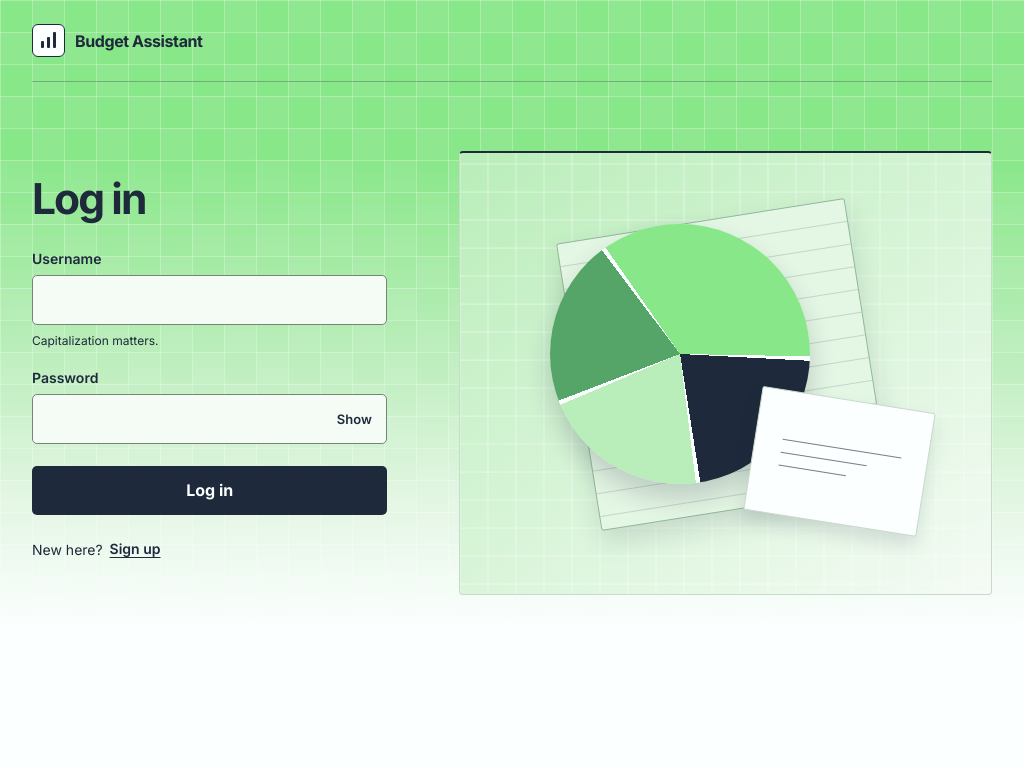
Test case: shows and hides the password before signing in
Expected: the heading "Log in" is shown, [32,173,146,224]
Type "BudgetUser8" into the field labelled "Username". click: (210, 300)
box: [32,275,387,325]
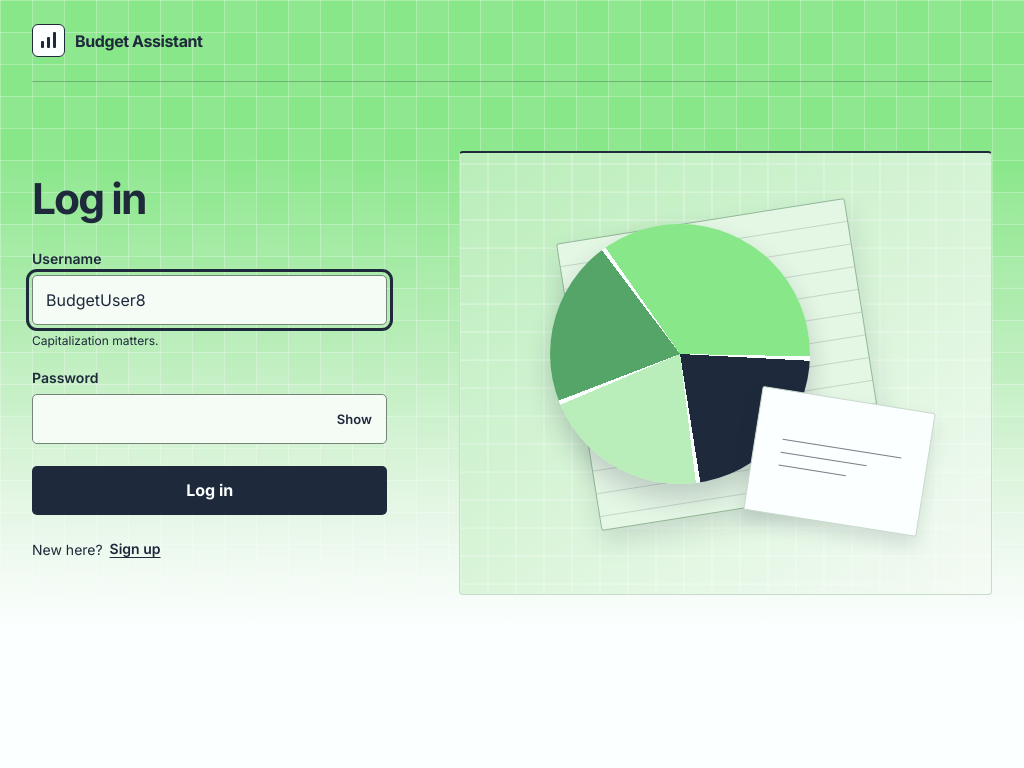
Type "Demo8abc" into the password field labelled "Password". click: (210, 419)
box: [32,394,387,444]
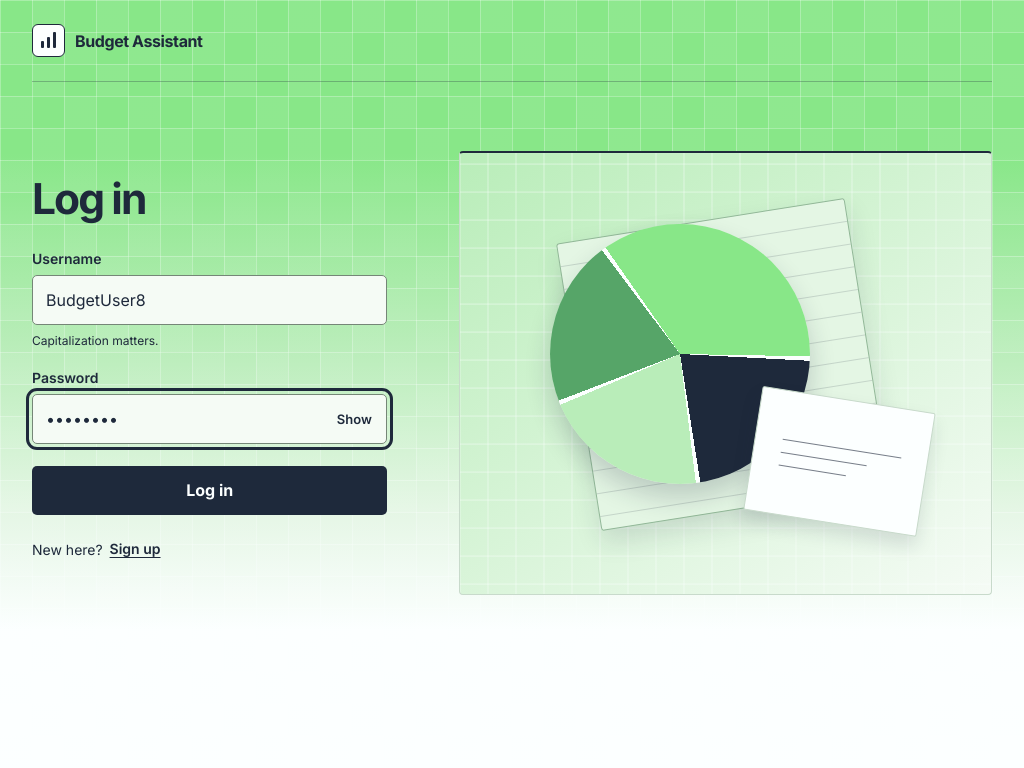
Click the button with aria-label "Show password". click: (354, 419)
box: [325,398,383,440]
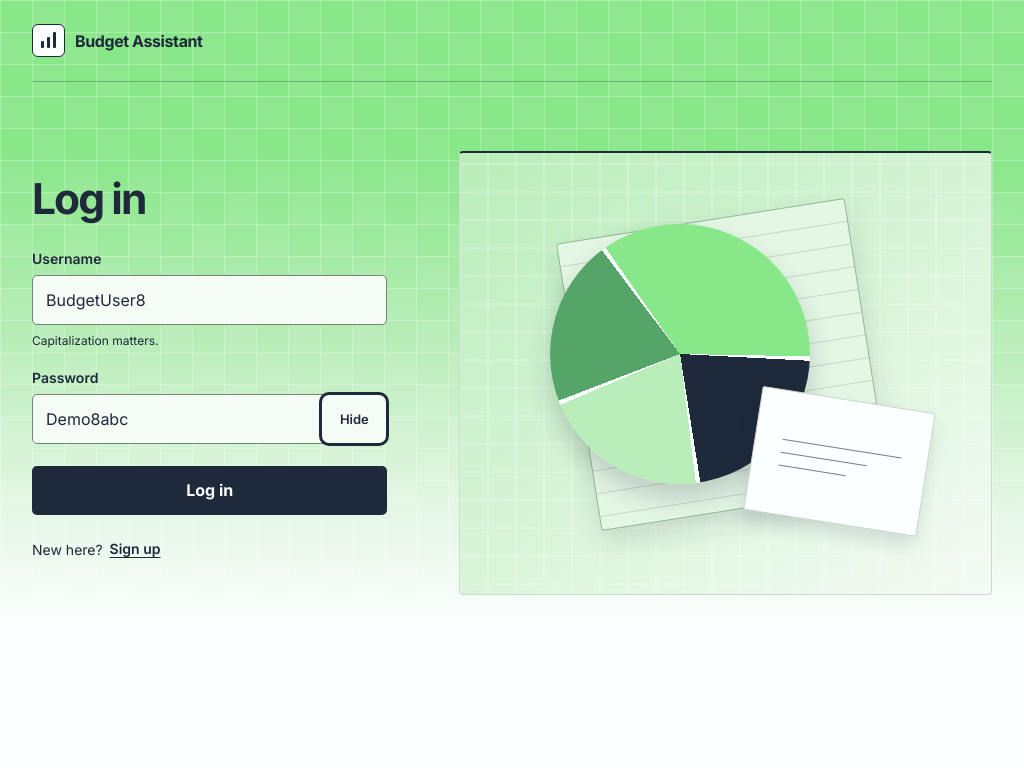
Now the field labelled "Password" shows its text, box [32,394,387,444]
Click the button with aria-label "Hide password". click: (354, 419)
box: [325,398,383,440]
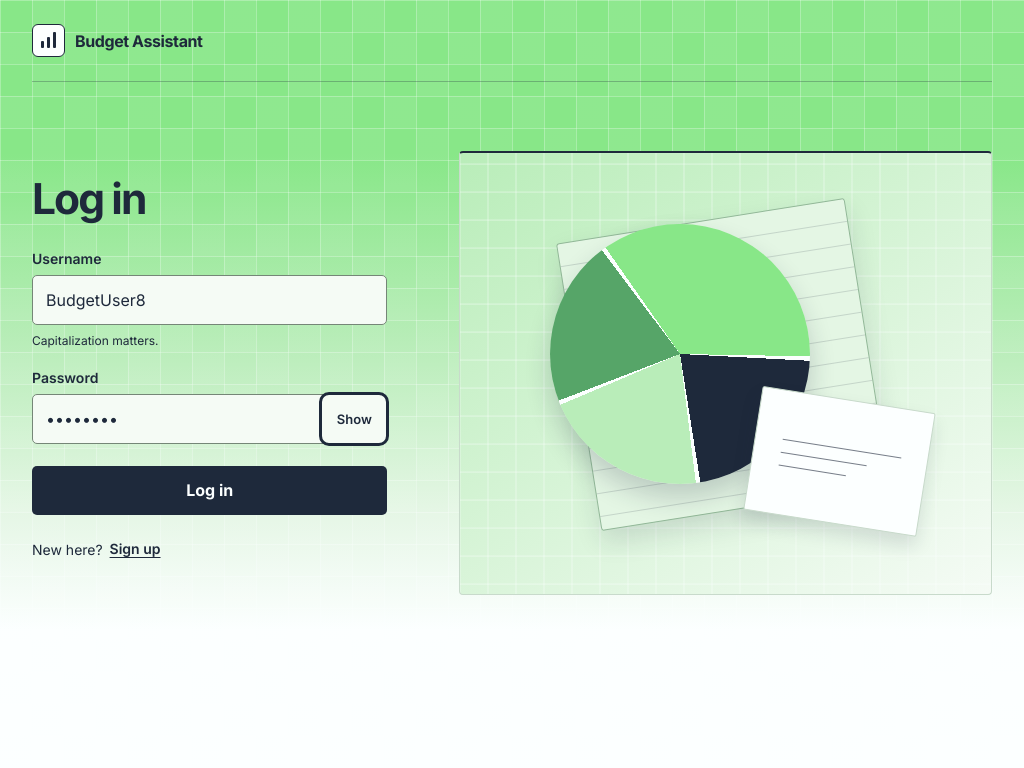
Now the password field labelled "Password" hides its text, box [32,394,387,444]
Click the button "Log in". click: (210, 490)
box: [32,466,387,515]
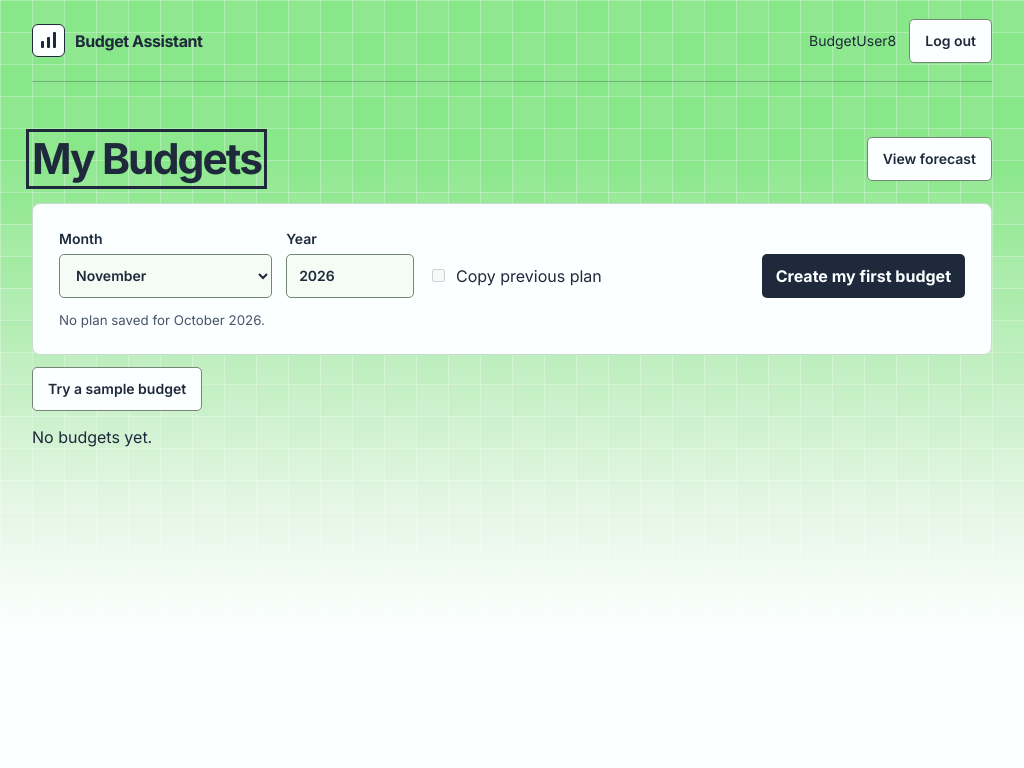
Now the heading "My Budgets" is shown, box [32,135,261,183]
